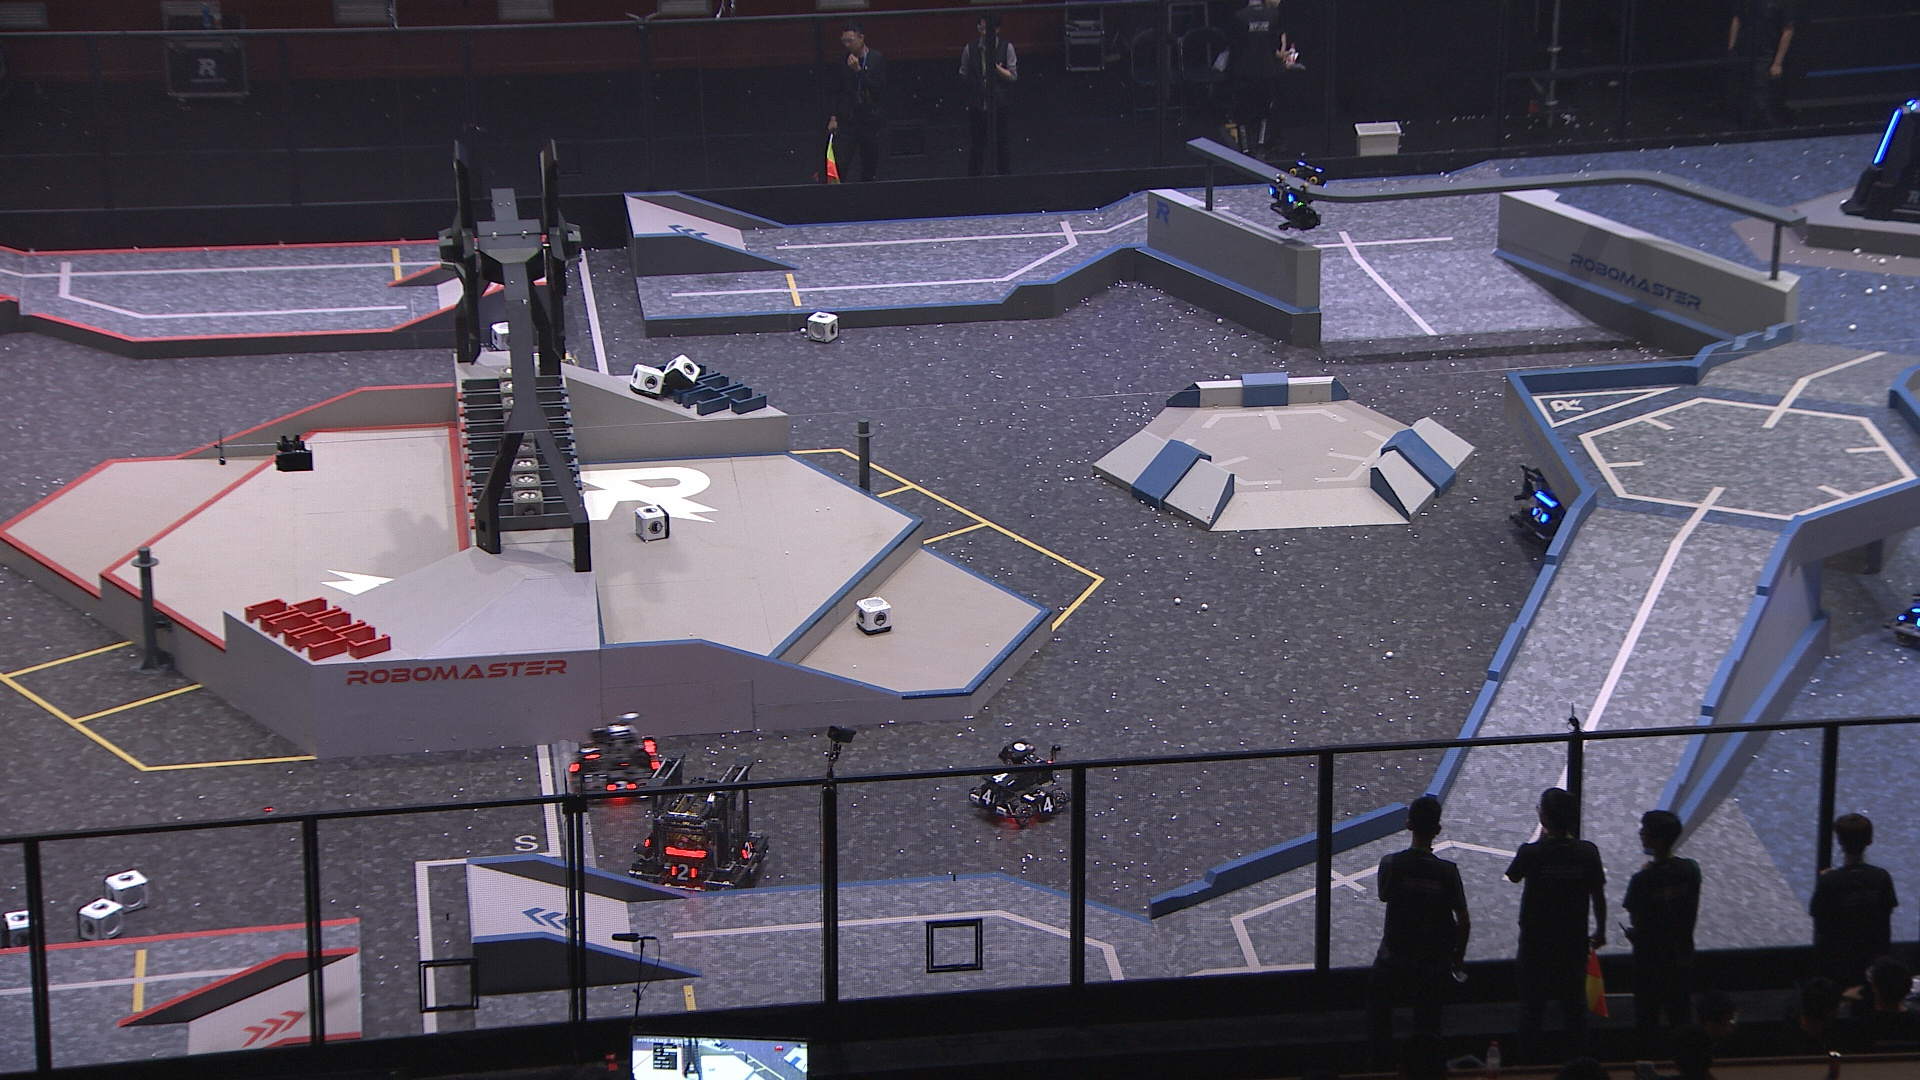armor: (1871, 104, 1908, 169), (1267, 183, 1296, 207), (667, 861, 698, 882), (986, 769, 1017, 789), (1035, 790, 1058, 815), (607, 779, 636, 798), (579, 741, 603, 764), (975, 785, 997, 808), (1531, 505, 1551, 526), (738, 837, 756, 861)
base: (1841, 95, 1920, 224)
car: (626, 756, 778, 899), (1510, 452, 1619, 556), (967, 740, 1069, 831), (570, 711, 662, 807), (1880, 546, 1920, 655)
watcher: (1263, 150, 1329, 233)
